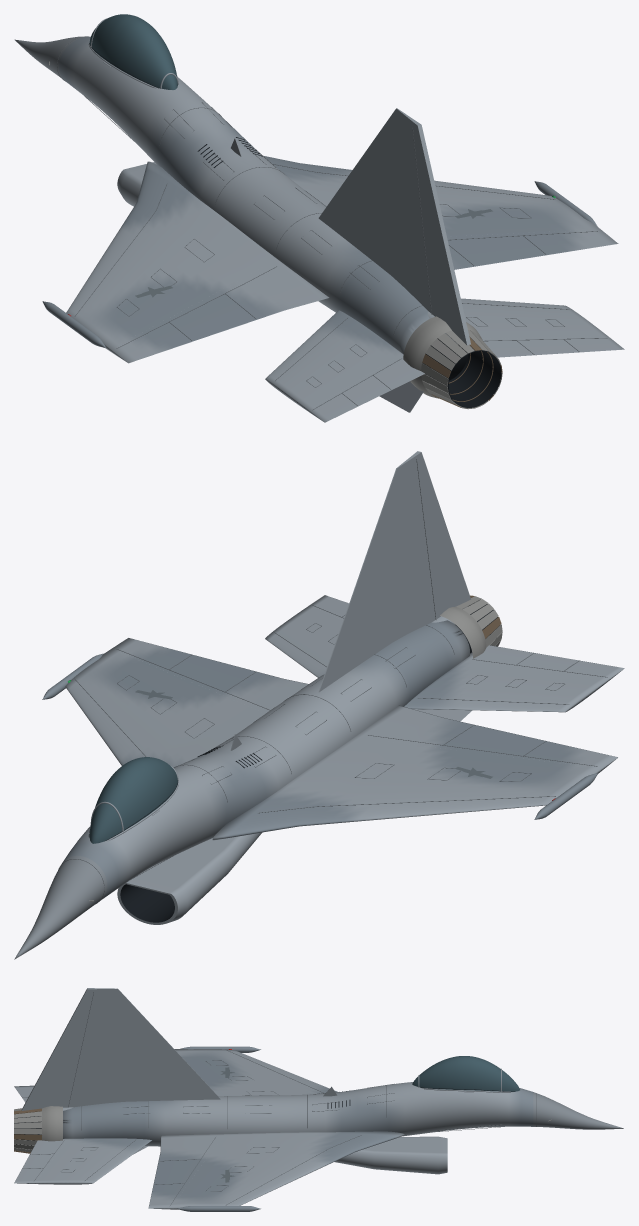
The model's file is f-16c-block-50.glb.
3 renders of one model, top to bottom at view 1: azimuth 30°, elevation 25°; view 2: azimuth 150°, elevation 25°; view 3: azimuth 270°, elevation 25°, orthographic. The views are drawn at different scales.
Parts seen in each view (by area): view 1: f-16c-block-50 | continuous fuselage, f-16c-block-50 | main wing L, f-16c-block-50 | vertical stabilizer, f-16c-block-50 | main wing R, f-16c-block-50 | all moving tailplane L, f-16c-block-50 | all moving tailplane R, f-16c-block-50 | single seat canopy glazing, f-16c-block-50 | nozzle interior, f-16c-block-50 | nozzle collar, f-16c-block-50 | intake external cowl and belly fairing.001, f-16c-block-50 | ventral stabilizing strake, f-16c-block-50 | wingtip rail; view 2: f-16c-block-50 | continuous fuselage, f-16c-block-50 | main wing L, f-16c-block-50 | main wing R, f-16c-block-50 | vertical stabilizer, f-16c-block-50 | all moving tailplane L, f-16c-block-50 | intake external cowl and belly fairing.001, f-16c-block-50 | single seat canopy glazing, f-16c-block-50 | all moving tailplane R, f-16c-block-50 | recessed intake duct, f-16c-block-50 | nozzle collar; view 3: f-16c-block-50 | continuous fuselage, f-16c-block-50 | vertical stabilizer, f-16c-block-50 | main wing R, f-16c-block-50 | all moving tailplane R, f-16c-block-50 | main wing L, f-16c-block-50 | intake external cowl and belly fairing.001, f-16c-block-50 | single seat canopy glazing, f-16c-block-50 | nozzle collar, f-16c-block-50 | wingtip rail.001.
Boxes of the visible parts, x1=… form: f-16c-block-50 | continuous fuselage: x1=14, y1=36, x2=429, y2=354; f-16c-block-50 | main wing L: x1=66, y1=161, x2=329, y2=363; f-16c-block-50 | vertical stabilizer: x1=318, y1=108, x2=471, y2=347; f-16c-block-50 | main wing R: x1=264, y1=156, x2=618, y2=269; f-16c-block-50 | all moving tailplane L: x1=265, y1=310, x2=424, y2=422; f-16c-block-50 | all moving tailplane R: x1=461, y1=298, x2=624, y2=357; f-16c-block-50 | single seat canopy glazing: x1=89, y1=14, x2=177, y2=89; f-16c-block-50 | nozzle interior: x1=422, y1=338, x2=501, y2=407; f-16c-block-50 | nozzle collar: x1=403, y1=316, x2=482, y2=398; f-16c-block-50 | intake external cowl and belly fairing.001: x1=117, y1=162, x2=156, y2=206; f-16c-block-50 | ventral stabilizing strake: x1=379, y1=381, x2=423, y2=412; f-16c-block-50 | wingtip rail: x1=42, y1=301, x2=106, y2=348; f-16c-block-50 | continuous fuselage: x1=14, y1=620, x2=469, y2=959; f-16c-block-50 | main wing L: x1=212, y1=705, x2=617, y2=840; f-16c-block-50 | main wing R: x1=65, y1=638, x2=308, y2=767; f-16c-block-50 | vertical stabilizer: x1=318, y1=451, x2=470, y2=692; f-16c-block-50 | all moving tailplane L: x1=404, y1=645, x2=624, y2=712; f-16c-block-50 | intake external cowl and belly fairing.001: x1=126, y1=832, x2=262, y2=922; f-16c-block-50 | single seat canopy glazing: x1=89, y1=757, x2=177, y2=843; f-16c-block-50 | all moving tailplane R: x1=265, y1=595, x2=348, y2=677; f-16c-block-50 | recessed intake duct: x1=120, y1=884, x2=174, y2=922; f-16c-block-50 | nozzle collar: x1=440, y1=606, x2=486, y2=658; f-16c-block-50 | continuous fuselage: x1=63, y1=1082, x2=623, y2=1146; f-16c-block-50 | vertical stabilizer: x1=21, y1=988, x2=220, y2=1110; f-16c-block-50 | main wing R: x1=148, y1=1131, x2=404, y2=1209; f-16c-block-50 | all moving tailplane R: x1=14, y1=1138, x2=151, y2=1184; f-16c-block-50 | main wing L: x1=174, y1=1048, x2=337, y2=1096; f-16c-block-50 | intake external cowl and belly fairing.001: x1=334, y1=1136, x2=447, y2=1174; f-16c-block-50 | single seat canopy glazing: x1=412, y1=1056, x2=519, y2=1091; f-16c-block-50 | nozzle collar: x1=42, y1=1106, x2=62, y2=1141; f-16c-block-50 | wingtip rail.001: x1=176, y1=1206, x2=260, y2=1211.
Size of the model in its own units: 9.45 by 4.97 by 15.09.
